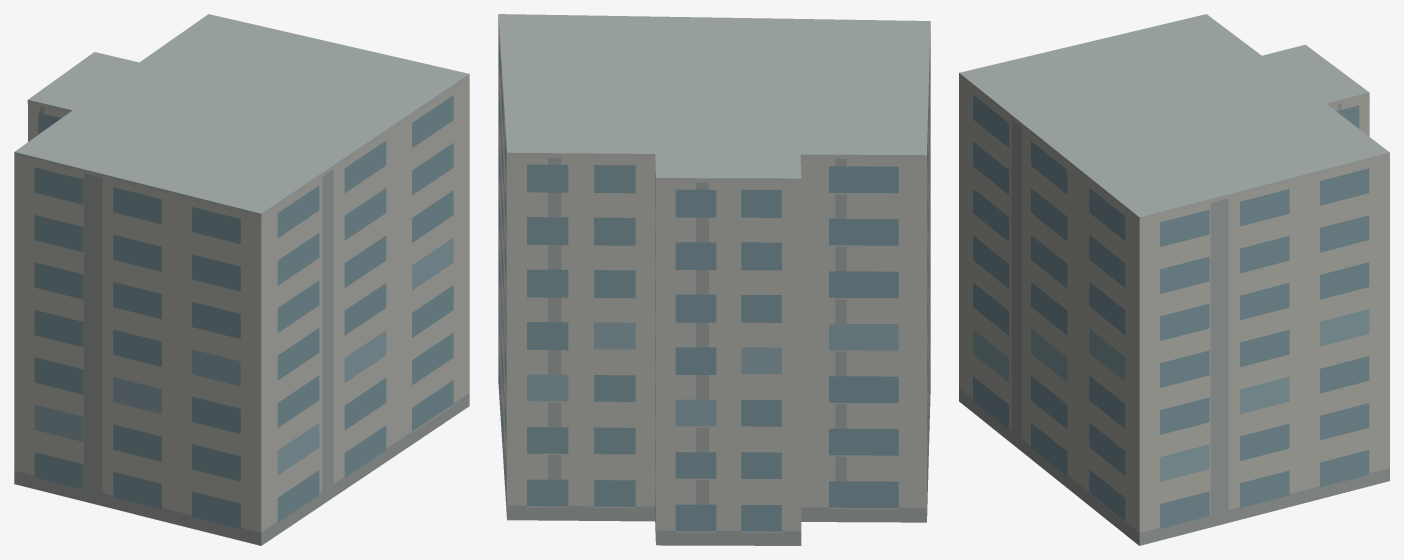
The model's file is survey-upis-32867050.glb.
The picture shows the model from 3 angles, left to right: view 1: azimuth 30°, elevation 25°; view 2: azimuth 150°, elevation 25°; view 3: azimuth 270°, elevation 25°; orthographic projection. The views are drawn at different scales.
Parts seen in each view (by area): view 1: survey-upis-32867050.tmp; view 2: survey-upis-32867050.tmp; view 3: survey-upis-32867050.tmp.
Boxes of the visible parts, left/top/right/bottom form: survey-upis-32867050.tmp: left=14, top=14, right=469, bottom=545; survey-upis-32867050.tmp: left=498, top=14, right=930, bottom=545; survey-upis-32867050.tmp: left=959, top=14, right=1389, bottom=545.
Size of the model in its own units: 26.95 by 20.3 by 24.13.
